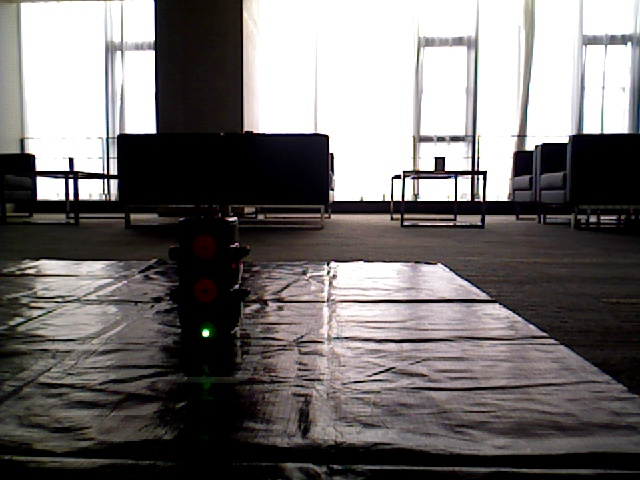green: (190, 220, 232, 340)
